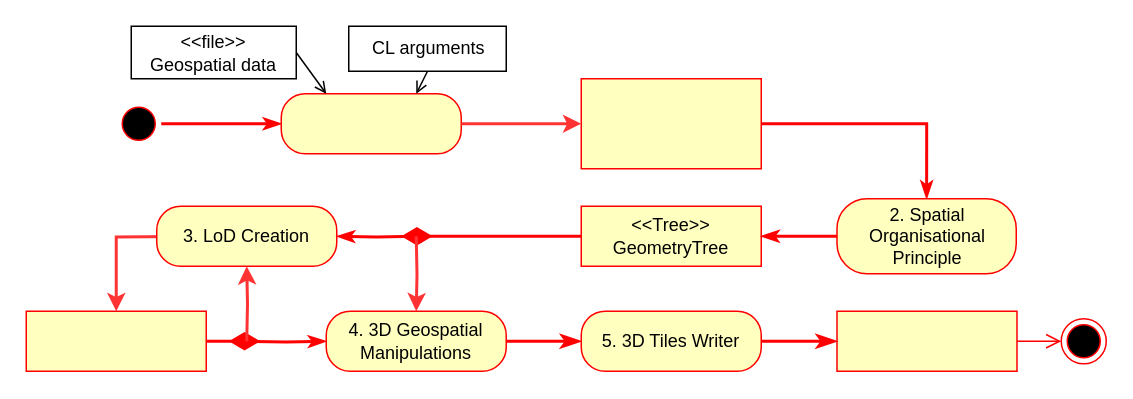
This 1133x399 diagram has some shape labels left out. The shapes that lost their labels are listed below. From the top down, each one's centre as x and y in pixels, then its label:
At (370,123): "1. Reader".
At (670,123): "<<List>> Feature".
At (115,340): "<<Tree>> GeometryTree With LoD".
At (926,340): "<<file>> 3DTiles Tileset".
